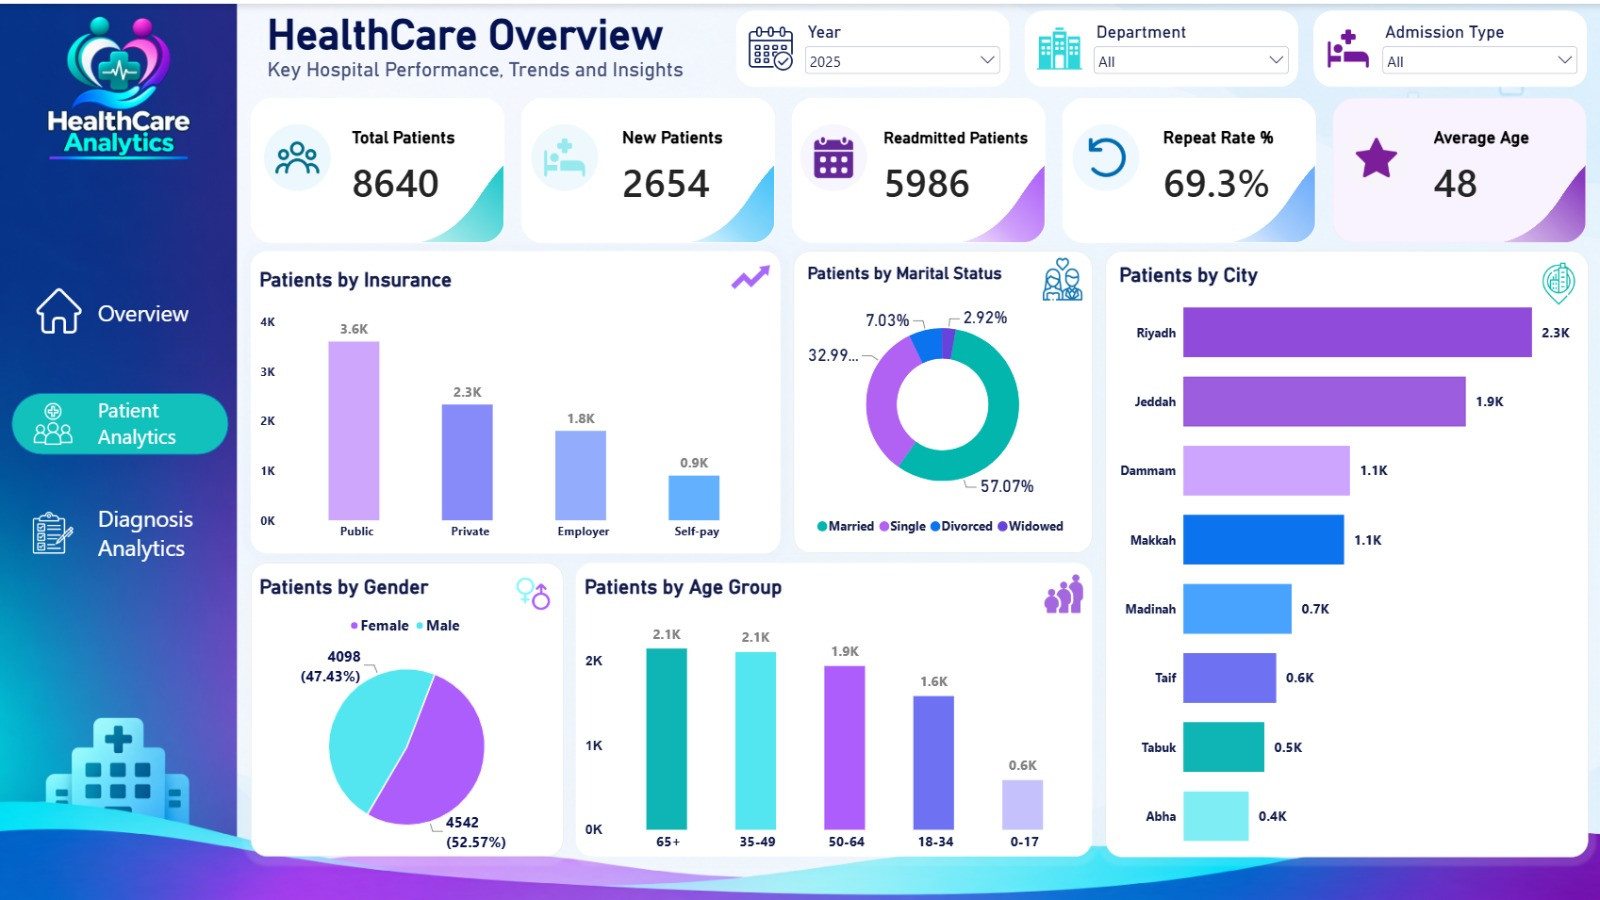

What the dashboard file says about the page in this screenshot:
{"tool":"powerbi","page":{"name":"Patient Analytics","canvas":[1920,1080],"ordinal":1},"visuals":[{"type":"textbox","box":[320,8,516,100],"z":0},{"type":"shape","box":[14,466,260,74],"z":0,"group":"g10"},{"type":"cardVisual","fields":{"Data":["AA_Measures.Total Patients","AA_Measures.New Patients","AA_Measures.Return Patients","AA_Measures.Repeat Patient Rate %","AA_Measures.Average Age"]},"box":[300,112,1602,174],"z":1000,"group":"g4"},{"type":"group","id":"g1","title":"Group 4","box":[300,296,634,362],"z":1000},{"type":"image","box":[44,330,54,76],"z":1000,"group":"g14"},{"type":"pieChart","title":"Patients by Gender","fields":{"Category":["Dim_Patients.Gender"],"Y":["AA_Measures.Total Patients"]},"box":[300,670,374,352],"z":1000,"group":"g5"},{"type":"lineClusteredColumnComboChart","title":"Patients by Age Group","fields":{"Category":["Dim_Patients.Age_Group"],"Y":["AA_Measures.Total Patients"]},"box":[690,670,618,352],"z":1000,"group":"g3"},{"type":"image","box":[1608.6,144.1,80,80],"z":2000,"group":"g4"},{"type":"clusteredColumnChart","title":"Patients by Insurance ","fields":{"Category":["Dim_Patients.Insurance_Type"],"Y":["AA_Measures.Total Patients"]},"box":[300,296,634,362],"z":2000,"group":"g1"},{"type":"group","id":"g2","title":"Group 6","box":[950,296,358,362],"z":2000},{"type":"pageNavigator","box":[18,304,256,398],"z":2000,"group":"g14"},{"type":"image","box":[36,478,56,50],"z":2000,"group":"g10"},{"type":"image","box":[1284.6,144.1,80,80],"z":3000,"group":"g4"},{"type":"image","box":[36,608,56,50],"z":3000,"group":"g10"},{"type":"group","id":"g3","title":"Group 7","box":[690,670,618,352],"z":3000},{"type":"group","id":"g4","title":"Group 1","box":[300,112,1602,174],"z":4000},{"type":"image","box":[958.6,144.1,80,80],"z":4000,"group":"g4"},{"type":"image","box":[636.6,144.1,80,80],"z":5000,"group":"g4"},{"type":"pieChart","title":"Patients by Marital Status","fields":{"Category":["Dim_Patients.Marital_Status"],"Y":["AA_Measures.Total Patients"]},"box":[950,296,357.7,361.7],"z":5000,"group":"g2"},{"type":"clusteredBarChart","title":"Patients by City","fields":{"Category":["Dim_Patients.City"],"Y":["AA_Measures.Total Patients"]},"box":[1324,296,578,726],"z":5000,"group":"g9"},{"type":"group","id":"g5","title":"Group 2","box":[300,670,374,352],"z":5000},{"type":"group","id":"g6","title":"Group 5","box":[882,8,328,92],"z":6000},{"type":"image","box":[316.3,144.1,80,80],"z":6000,"group":"g4"},{"type":"group","id":"g7","title":"Group 5","box":[1574,8,328,92],"z":7000},{"type":"image","box":[1842.6,310.2,50,50],"z":7000,"group":"g9"},{"type":"group","id":"g8","title":"Group 5","box":[1228,8,328,92],"z":8000},{"type":"group","id":"g9","title":"Group 8","box":[1324,296,578,726],"z":9000},{"type":"group","id":"g10","title":"Group 9","box":[14,304,260,398],"z":9001},{"type":"shape","box":[882,8,328,92],"z":10500,"group":"g11"},{"type":"shape","box":[1228,8,328,92],"z":10500,"group":"g12"},{"type":"shape","box":[1574,8,328,92],"z":10500,"group":"g13"},{"type":"group","id":"g11","title":"Group 3","box":[882,8,328,92],"z":11000,"group":"g6"},{"type":"group","id":"g12","title":"Group 3","box":[1228,8,328,92],"z":11000,"group":"g8"},{"type":"group","id":"g13","title":"Group 3","box":[1574,8,328,92],"z":11000,"group":"g7"},{"type":"slicer","fields":{"Values":["Calendar.Date.Variation.Date Hierarchy.Year"]},"box":[939.1,15.8,269.1,81.3],"z":11000,"group":"g11"},{"type":"slicer","fields":{"Values":["Dim_Department.Department"]},"box":[1285.1,15.8,269.1,81.3],"z":11000,"group":"g12"},{"type":"slicer","fields":{"Values":["Fact_Encounter.Admission_Type"]},"box":[1631.1,15.8,269.1,81.3],"z":11000,"group":"g13"},{"type":"image","box":[896,26,56,56],"z":11500,"group":"g6"},{"type":"image","box":[1242,26,56,56],"z":11500,"group":"g8"},{"type":"image","box":[1588,26,56,56],"z":11500,"group":"g7"},{"type":"group","id":"g14","title":"Group 8","box":[18,304,256,398],"z":16000,"group":"g10"},{"type":"image","box":[1251.3,684,46.1,46],"z":18000,"group":"g3"},{"type":"image","box":[875.9,303.1,46.9,46.1],"z":19000,"group":"g1"},{"type":"image","box":[1248.5,304,47.4,51.4],"z":19000,"group":"g2"},{"type":"image","box":[614,684,48,46],"z":19000,"group":"g5"}]}

Visuals, with their boxes on the page's 1920x1080 design canvas (x1, y1, x2, y2). These are canvas units, not pixel positions in the 1600x900 screenshot, which may show the page scaled, cropped or inside an application window:
textbox: rect(320, 8, 836, 108)
shape: rect(14, 466, 274, 540)
cardVisual - AA_Measures.Total Patients x AA_Measures.New Patients: rect(300, 112, 1902, 286)
"Group 4" group: rect(300, 296, 934, 658)
image: rect(44, 330, 98, 406)
"Patients by Gender" pieChart: rect(300, 670, 674, 1022)
"Patients by Age Group" lineClusteredColumnComboChart: rect(690, 670, 1308, 1022)
image: rect(1609, 144, 1689, 224)
"Patients by Insurance " clusteredColumnChart: rect(300, 296, 934, 658)
"Group 6" group: rect(950, 296, 1308, 658)
pageNavigator: rect(18, 304, 274, 702)
image: rect(36, 478, 92, 528)
image: rect(1285, 144, 1365, 224)
image: rect(36, 608, 92, 658)
"Group 7" group: rect(690, 670, 1308, 1022)
"Group 1" group: rect(300, 112, 1902, 286)
image: rect(959, 144, 1039, 224)
image: rect(637, 144, 717, 224)
"Patients by Marital Status" pieChart: rect(950, 296, 1308, 658)
"Patients by City" clusteredBarChart: rect(1324, 296, 1902, 1022)
"Group 2" group: rect(300, 670, 674, 1022)
"Group 5" group: rect(882, 8, 1210, 100)
image: rect(316, 144, 396, 224)
"Group 5" group: rect(1574, 8, 1902, 100)
image: rect(1843, 310, 1893, 360)
"Group 5" group: rect(1228, 8, 1556, 100)
"Group 8" group: rect(1324, 296, 1902, 1022)
"Group 9" group: rect(14, 304, 274, 702)
shape: rect(882, 8, 1210, 100)
shape: rect(1228, 8, 1556, 100)
shape: rect(1574, 8, 1902, 100)
"Group 3" group: rect(882, 8, 1210, 100)
"Group 3" group: rect(1228, 8, 1556, 100)
"Group 3" group: rect(1574, 8, 1902, 100)
slicer - Calendar.Date.Variation.Date Hierarchy.Year: rect(939, 16, 1208, 97)
slicer - Dim_Department.Department: rect(1285, 16, 1554, 97)
slicer - Fact_Encounter.Admission_Type: rect(1631, 16, 1900, 97)
image: rect(896, 26, 952, 82)
image: rect(1242, 26, 1298, 82)
image: rect(1588, 26, 1644, 82)
"Group 8" group: rect(18, 304, 274, 702)
image: rect(1251, 684, 1297, 730)
image: rect(876, 303, 923, 349)
image: rect(1248, 304, 1296, 355)
image: rect(614, 684, 662, 730)
